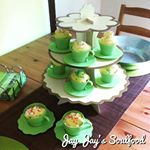cups: (61, 109, 93, 137), (21, 102, 54, 127)
